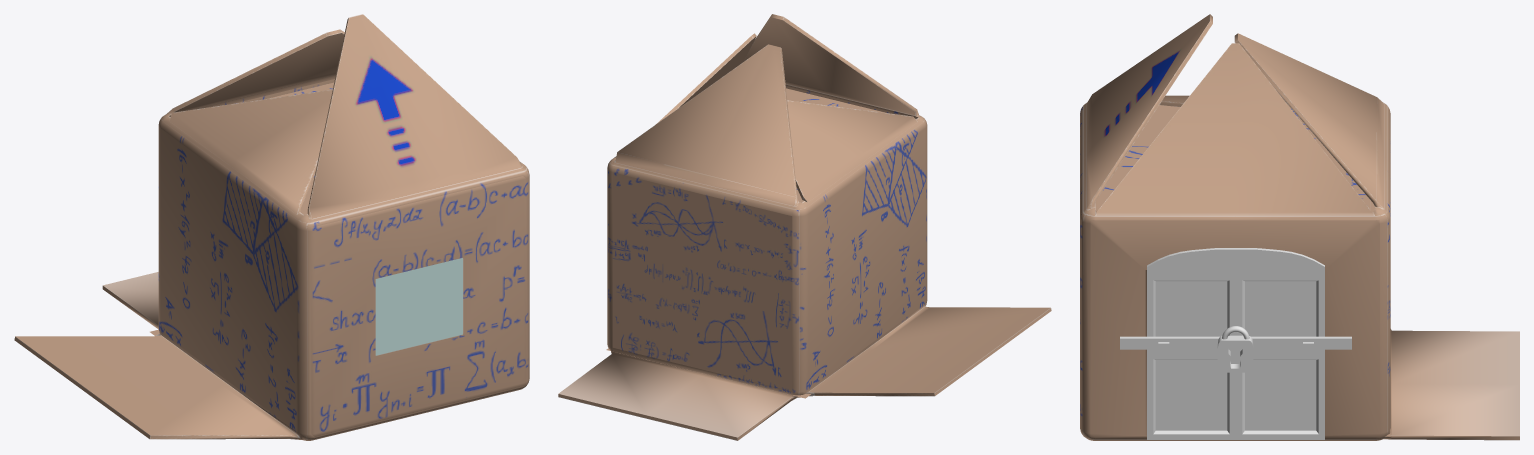
Rendered from dooshuis final blauw.fbx.
3 renders of one model, left to right at view 1: azimuth 30°, elevation 25°; view 2: azimuth 150°, elevation 25°; view 3: azimuth 270°, elevation 25°, orthographic. The views are drawn at different scales.
Parts seen in each view (by area): view 1: Cube_4, Cube_2; view 2: Cube_2, Cube_4; view 3: Cube_2, Cube, Cube_4, Cube_1, Torus_1.
Boxes of the visible parts, x1,y1,x2,y2 form: Cube_4: (160, 129, 526, 436); Cube_2: (14, 14, 529, 440); Cube_2: (558, 14, 1051, 440); Cube_4: (808, 129, 925, 388); Cube_2: (1080, 14, 1519, 440); Cube: (1147, 248, 1324, 439); Cube_4: (1080, 111, 1379, 435); Cube_1: (1120, 336, 1351, 349); Torus_1: (1217, 326, 1253, 372).
Bounding box in the file's own units: 1122 × 969 × 1045.
1 material, 1 textured.
